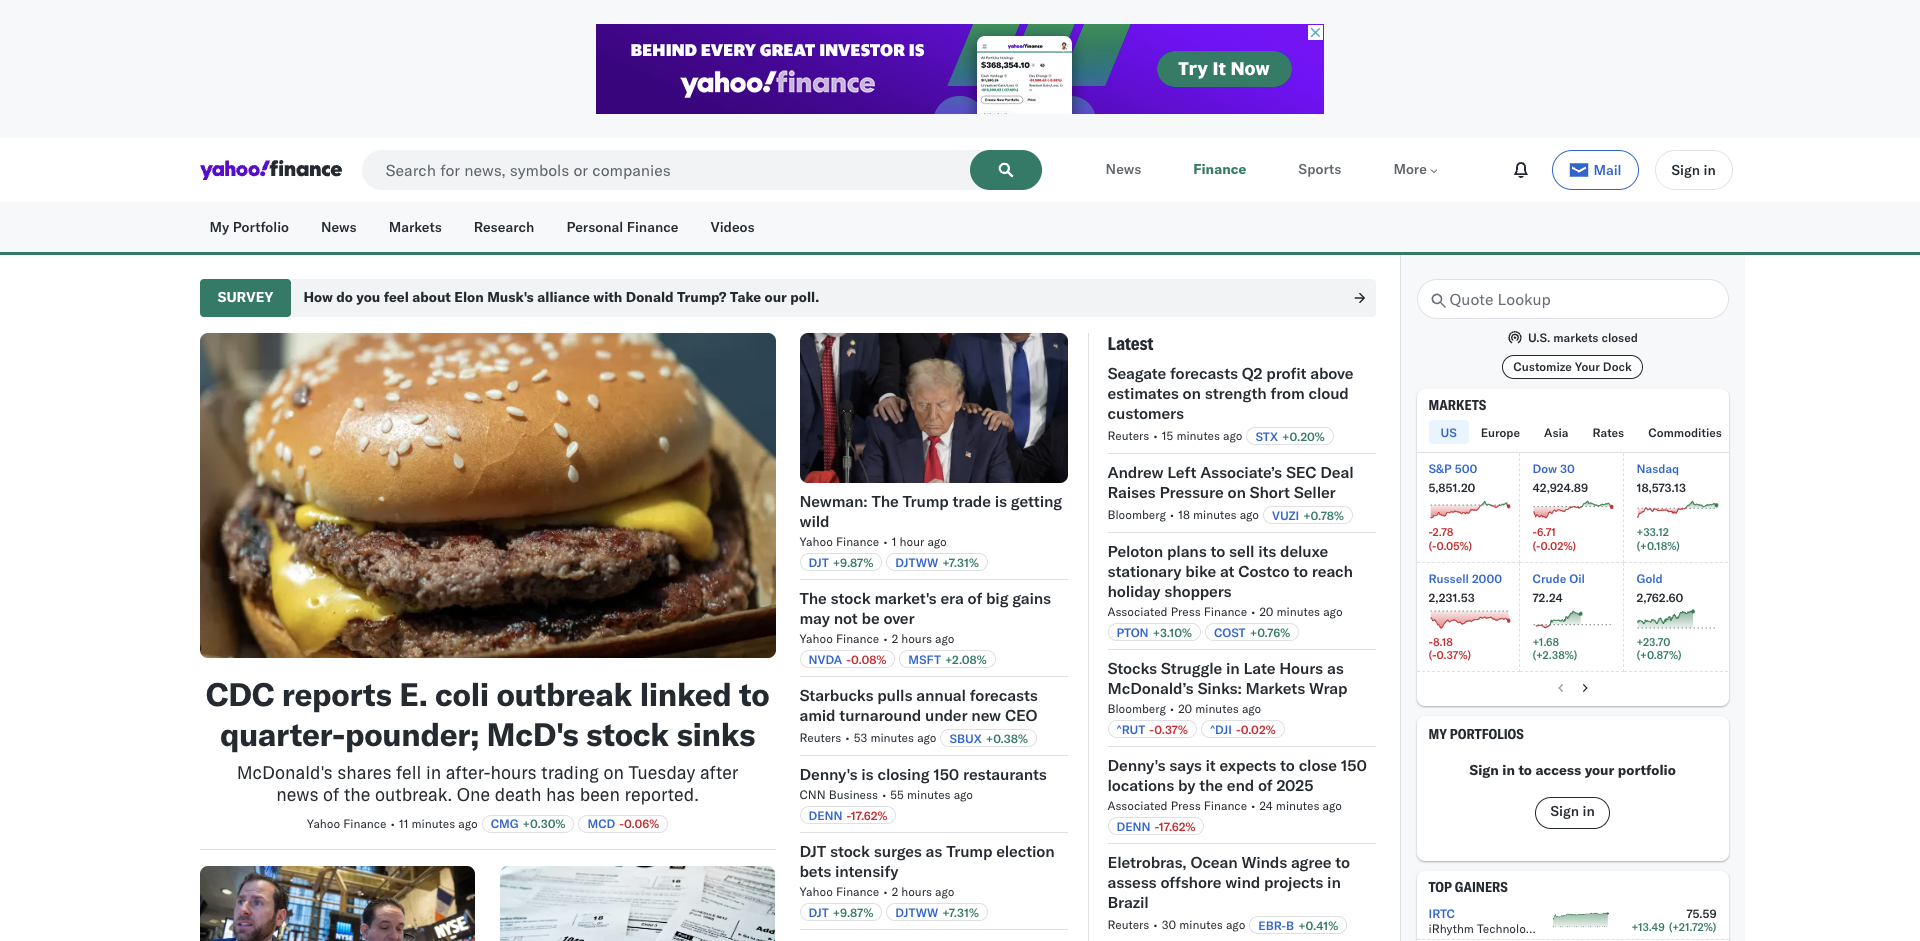button: (1420, 452, 1604, 496), (1553, 149, 1638, 190), (1502, 355, 1643, 379), (970, 149, 1042, 190), (1536, 796, 1610, 828), (1818, 420, 1920, 444), (1636, 420, 1734, 444), (1734, 420, 1818, 444), (1390, 156, 1445, 184), (1468, 420, 1532, 444), (1581, 420, 1636, 444), (1532, 420, 1581, 444), (789, 211, 820, 241), (1429, 420, 1468, 444), (1876, 20, 1900, 44), (1572, 676, 1597, 700), (1549, 676, 1572, 700), (911, 39, 913, 40)
checkbox: (1512, 161, 1549, 196)
icon: (1209, 414, 1232, 439), (1209, 642, 1232, 665), (1209, 827, 1232, 850)
input: (361, 149, 1042, 190), (1417, 279, 1729, 319)
label: (1513, 161, 1529, 178)
link: (200, 332, 775, 658), (200, 674, 775, 807), (1182, 396, 1561, 520), (200, 279, 1375, 316), (800, 332, 1068, 483), (1182, 520, 1561, 622), (1182, 622, 1561, 725), (1182, 807, 1561, 910), (1182, 294, 1561, 396), (1182, 725, 1561, 807), (200, 866, 475, 941), (500, 866, 775, 941), (1107, 363, 1375, 423), (1107, 542, 1375, 602), (1107, 852, 1375, 912), (800, 491, 1068, 532), (800, 588, 1068, 629), (800, 685, 1068, 725), (1107, 462, 1375, 502), (1107, 658, 1375, 698), (1107, 755, 1375, 795), (800, 842, 1068, 881), (1429, 727, 1717, 760), (1429, 905, 1717, 936), (1636, 461, 1720, 554), (1636, 571, 1720, 663), (1429, 461, 1511, 554), (1533, 461, 1615, 554), (1429, 571, 1511, 663), (1533, 571, 1615, 663), (771, 225, 956, 255), (1204, 225, 1389, 255), (340, 225, 524, 255), (556, 225, 740, 255), (988, 225, 1172, 255), (771, 273, 956, 301), (771, 309, 956, 337), (771, 381, 956, 409), (771, 417, 956, 445), (771, 453, 956, 482), (771, 489, 956, 517), (1204, 273, 1389, 301), (1204, 309, 1389, 337), (1204, 381, 1389, 409), (1204, 417, 1389, 445), (1204, 453, 1389, 482), (1204, 489, 1389, 517), (1204, 524, 1389, 553), (1204, 561, 1389, 589), (1204, 597, 1389, 625), (340, 273, 524, 301), (340, 309, 524, 337), (340, 381, 524, 409), (340, 417, 524, 445), (340, 453, 524, 482), (340, 489, 524, 517), (340, 524, 524, 553), (340, 561, 524, 589), (340, 597, 524, 625), (556, 273, 740, 301), (556, 309, 740, 337), (556, 381, 740, 409), (556, 417, 740, 445), (556, 453, 740, 482), (556, 489, 740, 517), (556, 524, 740, 553), (556, 561, 740, 589), (556, 597, 740, 625), (988, 273, 1172, 301), (988, 309, 1172, 337), (988, 381, 1172, 409), (988, 417, 1172, 445), (988, 453, 1172, 482), (988, 489, 1172, 517), (988, 524, 1172, 553), (988, 561, 1172, 589), (1420, 273, 1604, 301), (1420, 309, 1604, 337), (1420, 406, 1604, 434), (771, 346, 956, 372), (1204, 346, 1389, 372), (340, 346, 524, 372), (340, 633, 524, 660), (556, 346, 740, 372), (988, 346, 1172, 372), (1420, 346, 1604, 372), (1429, 397, 1717, 414), (1429, 879, 1717, 896), (800, 765, 1047, 784), (372, 301, 535, 330), (372, 333, 535, 361), (372, 365, 535, 393), (372, 397, 535, 425), (372, 429, 535, 457), (372, 461, 535, 489), (372, 493, 535, 521), (372, 524, 535, 553), (372, 589, 535, 618), (704, 301, 867, 330), (704, 333, 867, 361), (550, 301, 713, 330), (550, 333, 713, 361), (550, 365, 713, 393), (550, 397, 713, 425), (550, 429, 713, 457), (550, 461, 713, 489), (550, 493, 713, 521), (550, 524, 713, 553), (550, 589, 713, 618), (305, 301, 467, 330), (305, 333, 467, 361), (305, 365, 467, 393), (305, 397, 467, 425), (305, 429, 467, 457), (305, 461, 467, 489), (305, 493, 467, 521), (305, 524, 467, 553), (539, 301, 700, 330), (539, 333, 700, 361), (539, 365, 700, 393), (539, 397, 700, 425), (539, 429, 700, 457), (539, 461, 700, 489), (539, 493, 700, 521), (539, 524, 700, 553), (539, 589, 700, 618), (458, 301, 620, 330), (458, 333, 620, 361), (458, 365, 620, 393), (458, 397, 620, 425), (458, 429, 620, 457), (716, 301, 878, 330), (716, 333, 878, 361), (716, 365, 878, 393), (716, 397, 878, 425), (716, 429, 878, 457), (716, 461, 878, 489), (694, 301, 856, 330), (694, 333, 856, 361), (694, 365, 856, 393), (694, 397, 856, 425), (694, 429, 856, 457), (694, 461, 856, 489), (694, 493, 856, 521), (694, 524, 856, 553), (372, 270, 535, 297), (372, 557, 535, 584), (704, 270, 867, 297), (550, 270, 713, 297), (550, 557, 713, 584), (305, 270, 467, 297), (305, 557, 467, 584), (539, 270, 700, 297), (539, 557, 700, 584), (458, 270, 620, 297), (716, 270, 878, 297), (694, 270, 856, 297), (556, 212, 688, 243), (1654, 149, 1733, 190), (200, 212, 299, 243), (200, 161, 342, 180), (464, 212, 545, 243), (378, 212, 452, 243), (700, 212, 764, 243), (887, 903, 988, 921), (1570, 152, 1621, 187), (940, 729, 1037, 747), (800, 806, 896, 825), (887, 554, 988, 571), (1107, 622, 1201, 641), (1205, 622, 1299, 641), (1189, 156, 1250, 184), (481, 815, 574, 833), (311, 212, 366, 243), (1107, 817, 1205, 834), (1249, 916, 1347, 934), (578, 815, 669, 833), (1262, 506, 1353, 524), (899, 651, 996, 668), (800, 651, 895, 668), (1247, 426, 1333, 445), (1107, 720, 1196, 738), (800, 903, 883, 921), (1294, 156, 1346, 184), (800, 554, 883, 571), (1201, 720, 1284, 738), (1102, 156, 1145, 184), (800, 939, 1068, 941)
